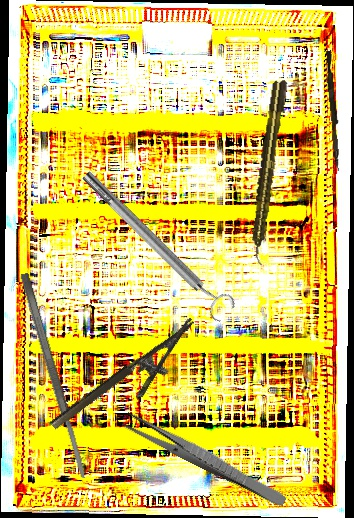Dressing Forceps: (120, 410, 290, 509)
Fixation Ring: (75, 162, 239, 326)
Handpiece: (246, 78, 289, 266)
Needle Holder: (48, 317, 212, 450)
Pusher: (323, 50, 344, 172)
Spatula Surgical: (18, 271, 89, 481)
